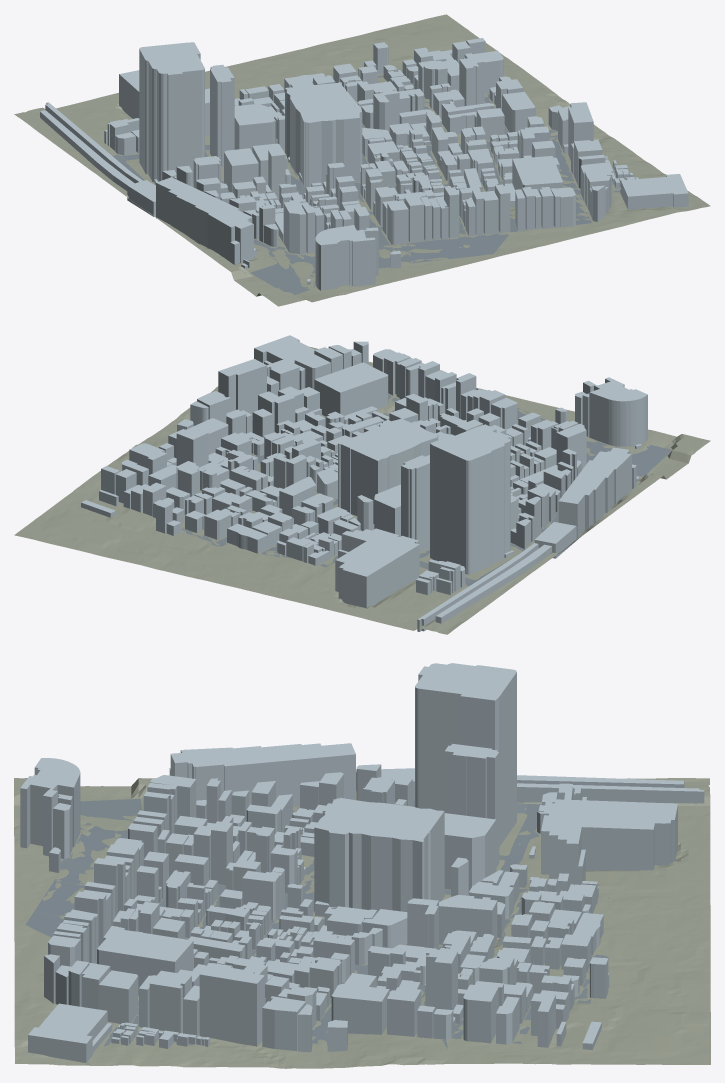
Rendered from modern-baseline.gltf.
The picture shows the model from 3 angles, top to bottom: view 1: azimuth 30°, elevation 25°; view 2: azimuth 150°, elevation 25°; view 3: azimuth 270°, elevation 25°; orthographic projection. The views are drawn at different scales.
Parts seen in each view (by area): view 1: PLATEAU source TIN terrain, bldg_159ebc0b-e5cd-4de8-a027-e924ee337964, bldg_7506fc9f-1045-4cdc-9f35-9de5a01de82d, bldg_d4b3cef2-fb52-49ca-bc5f-4592b4b85585, bldg_0ec83f8f-1b0b-45c2-82c9-f56cc5cbb396, 都道4号 (×3), bldg_448c2b6d-9aad-4dbe-b3ca-81e048c21d4b, bldg_58ef3c46-5224-44f3-bfdf-be7268c4ed99, bldg_6cfc385a-5faf-4275-93a8-5d879a78edad, 新宿区役所, 西武新宿駅, bldg_0d915032-b465-43ab-bf17-8eb757382c79 (+31 smaller); view 2: PLATEAU source TIN terrain, bldg_159ebc0b-e5cd-4de8-a027-e924ee337964, bldg_7506fc9f-1045-4cdc-9f35-9de5a01de82d, bldg_c53f7060-6396-4640-afa2-bcd49763d7a4, bldg_d4b3cef2-fb52-49ca-bc5f-4592b4b85585, bldg_0ec83f8f-1b0b-45c2-82c9-f56cc5cbb396, 新宿区役所, bldg_448c2b6d-9aad-4dbe-b3ca-81e048c21d4b, bldg_aa98b8d0-41a4-4b17-982d-27e6da17cd7c, 西武新宿駅, bldg_37434a8b-e394-4ef2-b96a-b67b5f6a1d9b, bldg_6cfc385a-5faf-4275-93a8-5d879a78edad (+27 smaller); view 3: PLATEAU source TIN terrain, bldg_7506fc9f-1045-4cdc-9f35-9de5a01de82d, bldg_159ebc0b-e5cd-4de8-a027-e924ee337964, bldg_c53f7060-6396-4640-afa2-bcd49763d7a4, bldg_d4b3cef2-fb52-49ca-bc5f-4592b4b85585, bldg_aa98b8d0-41a4-4b17-982d-27e6da17cd7c, bldg_448c2b6d-9aad-4dbe-b3ca-81e048c21d4b, bldg_0ec83f8f-1b0b-45c2-82c9-f56cc5cbb396, 新宿区役所, bldg_58ef3c46-5224-44f3-bfdf-be7268c4ed99, bldg_6cfc385a-5faf-4275-93a8-5d879a78edad, bldg_37434a8b-e394-4ef2-b96a-b67b5f6a1d9b (+49 smaller).
Part boxes in pixels (x1,y1,x2,y2): PLATEAU source TIN terrain: [14, 14, 710, 306]; bldg_159ebc0b-e5cd-4de8-a027-e924ee337964: [139, 42, 204, 184]; bldg_7506fc9f-1045-4cdc-9f35-9de5a01de82d: [285, 82, 362, 186]; bldg_d4b3cef2-fb52-49ca-bc5f-4592b4b85585: [156, 177, 253, 262]; bldg_0ec83f8f-1b0b-45c2-82c9-f56cc5cbb396: [315, 225, 378, 290]; 都道4号 (×3): [250, 233, 508, 294]; bldg_448c2b6d-9aad-4dbe-b3ca-81e048c21d4b: [210, 64, 234, 166]; bldg_58ef3c46-5224-44f3-bfdf-be7268c4ed99: [621, 174, 688, 209]; bldg_6cfc385a-5faf-4275-93a8-5d879a78edad: [234, 104, 274, 151]; 新宿区役所: [512, 156, 562, 192]; 西武新宿駅: [40, 110, 134, 190]; bldg_0d915032-b465-43ab-bf17-8eb757382c79: [459, 56, 484, 105]; PLATEAU source TIN terrain: [14, 346, 710, 634]; bldg_159ebc0b-e5cd-4de8-a027-e924ee337964: [430, 426, 510, 574]; bldg_7506fc9f-1045-4cdc-9f35-9de5a01de82d: [338, 418, 438, 523]; bldg_c53f7060-6396-4640-afa2-bcd49763d7a4: [335, 528, 419, 608]; bldg_d4b3cef2-fb52-49ca-bc5f-4592b4b85585: [558, 447, 631, 538]; bldg_0ec83f8f-1b0b-45c2-82c9-f56cc5cbb396: [583, 377, 647, 446]; 新宿区役所: [314, 362, 388, 416]; bldg_448c2b6d-9aad-4dbe-b3ca-81e048c21d4b: [401, 455, 429, 551]; bldg_aa98b8d0-41a4-4b17-982d-27e6da17cd7c: [218, 359, 266, 416]; 西武新宿駅: [435, 544, 551, 623]; bldg_37434a8b-e394-4ef2-b96a-b67b5f6a1d9b: [417, 543, 538, 631]; bldg_6cfc385a-5faf-4275-93a8-5d879a78edad: [374, 484, 400, 536]; PLATEAU source TIN terrain: [14, 778, 710, 1068]; bldg_7506fc9f-1045-4cdc-9f35-9de5a01de82d: [314, 797, 444, 912]; bldg_159ebc0b-e5cd-4de8-a027-e924ee337964: [415, 663, 516, 846]; bldg_c53f7060-6396-4640-afa2-bcd49763d7a4: [541, 799, 677, 886]; bldg_d4b3cef2-fb52-49ca-bc5f-4592b4b85585: [170, 743, 355, 806]; bldg_aa98b8d0-41a4-4b17-982d-27e6da17cd7c: [199, 964, 264, 1046]; bldg_448c2b6d-9aad-4dbe-b3ca-81e048c21d4b: [444, 743, 499, 867]; bldg_0ec83f8f-1b0b-45c2-82c9-f56cc5cbb396: [20, 758, 80, 856]; 新宿区役所: [97, 928, 193, 995]; bldg_58ef3c46-5224-44f3-bfdf-be7268c4ed99: [28, 1003, 107, 1062]; bldg_6cfc385a-5faf-4275-93a8-5d879a78edad: [444, 813, 496, 891]; bldg_37434a8b-e394-4ef2-b96a-b67b5f6a1d9b: [517, 783, 704, 803].
Size of the model in its own units: 451 by 117 by 476.
